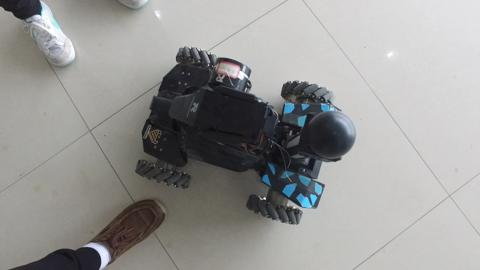chariot: (107, 35, 366, 225)
